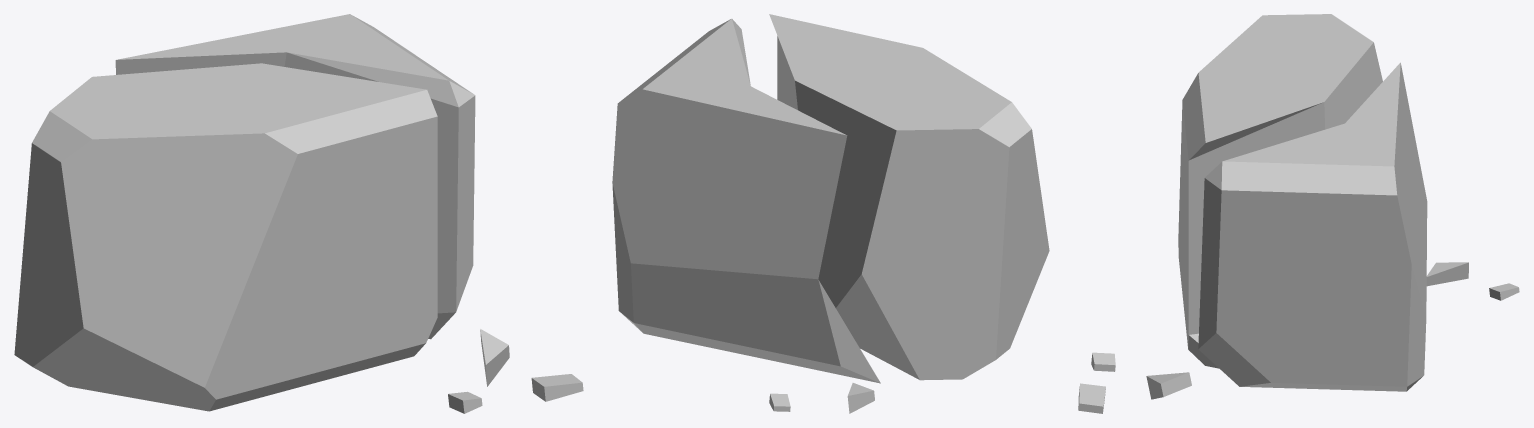
File: Rock_Block_crk_m_02.fbx
3 views of the same model, side by side, from view 1: azimuth 30°, elevation 25°; view 2: azimuth 150°, elevation 25°; view 3: azimuth 270°, elevation 25° (orthographic). The views are drawn at different scales.
Visible parts, largest first — view 1: Rock_Block_crk_m_02; view 2: Rock_Block_crk_m_02; view 3: Rock_Block_crk_m_02.
Part boxes in pixels (x1,y1,x2,y2): Rock_Block_crk_m_02: (14, 14, 583, 413); Rock_Block_crk_m_02: (612, 14, 1049, 413); Rock_Block_crk_m_02: (1078, 14, 1519, 413).
Bounding box in the file's own units: 133 × 85.62 × 140.
